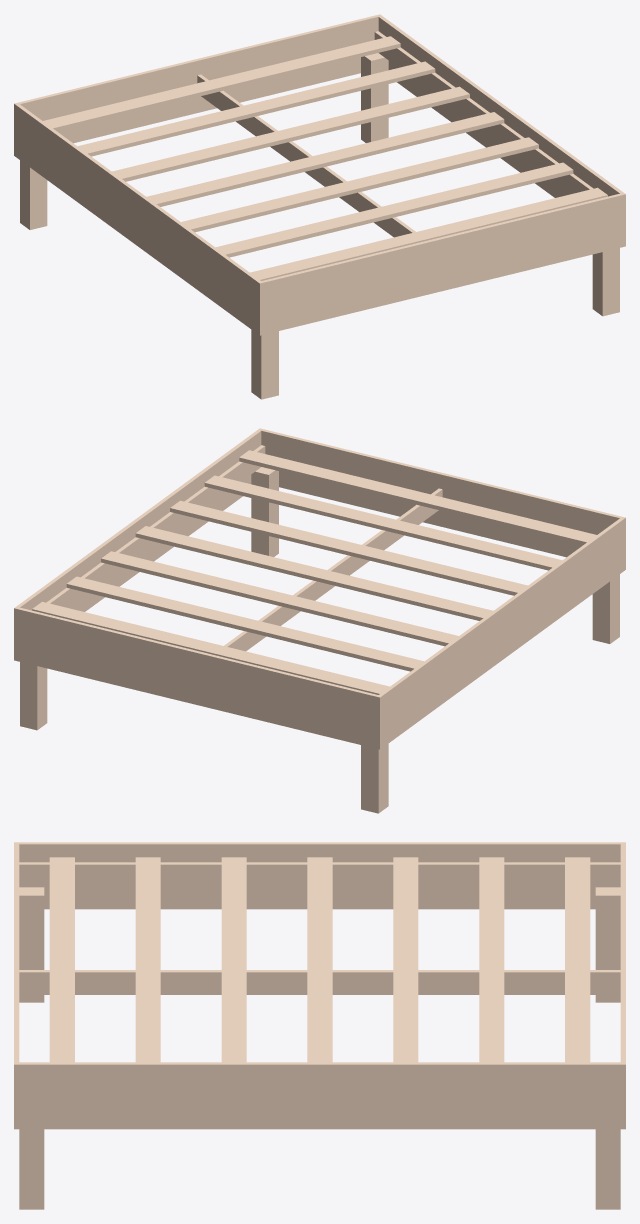
File: bed frame cali king.fbx
3 views of the same model, one above another, from view 1: azimuth 30°, elevation 25°; view 2: azimuth 150°, elevation 25°; view 3: azimuth 270°, elevation 25° (orthographic). The views are drawn at different scales.
Visible parts, largest first — view 1: Cube_0_4, Cube_0_3, Cube_1_4, Cube_1_3, Cube_5_2, Cube_1_5, Cube_6, Cube_2_2, Cube_3_2, Cube_4_2, Cube_0_5, slat__supports_2 (+5 smaller); view 2: Cube_1_4, Cube_0_3, Cube_0_4, Cube_1_3, Cube_1_5, Cube_0_5, Cube_5_2, Cube_3_2, Cube_4_2, Cube_2_2, Cube_6, slat__supports_2 (+5 smaller); view 3: Cube_1_3, Cube_0_3, slat__supports_0, slat__supports_1, Cube_3_2, Cube_0_5, Cube_1_5, Cube_2_2, Cube_4_2, Cube_5_2, Cube_6, Cube_0 (+5 smaller).
Part boxes in pixels (x1,y1,x2,y2): Cube_0_4: (257,192,625,335); Cube_0_3: (16,104,260,333); Cube_1_4: (14,14,381,156); Cube_1_3: (378,16,623,197); Cube_5_2: (78,61,435,156); Cube_1_5: (216,162,573,257); Cube_6: (43,36,400,131); Cube_2_2: (181,137,538,232); Cube_3_2: (146,112,504,206); Cube_4_2: (112,86,469,181); Cube_0_5: (250,187,607,280); slat__supports_2: (374,31,593,193); Cube_1_4: (14,606,382,749); Cube_0_3: (379,518,623,747); Cube_0_4: (258,428,625,570); Cube_1_3: (16,430,261,611); Cube_1_5: (204,475,561,570); Cube_0_5: (239,450,596,545); Cube_5_2: (66,576,423,671); Cube_3_2: (135,526,493,620); Cube_4_2: (101,551,458,646); Cube_2_2: (170,500,527,595); Cube_6: (32,601,389,694); slat__supports_2: (46,445,265,607); Cube_1_3: (19,1062,620,1129); Cube_0_3: (19,842,620,909); slat__supports_0: (19,862,620,887); slat__supports_1: (19,970,620,994); Cube_3_2: (307,857,332,1062); Cube_0_5: (49,857,74,1062); Cube_1_5: (135,857,160,1062); Cube_2_2: (221,857,246,1062); Cube_4_2: (393,857,418,1062); Cube_5_2: (479,857,504,1062); Cube_6: (565,857,590,1062); Cube_0: (19,887,44,1002).
Bounding box in the file's own units: 187 × 57.78 × 217.
